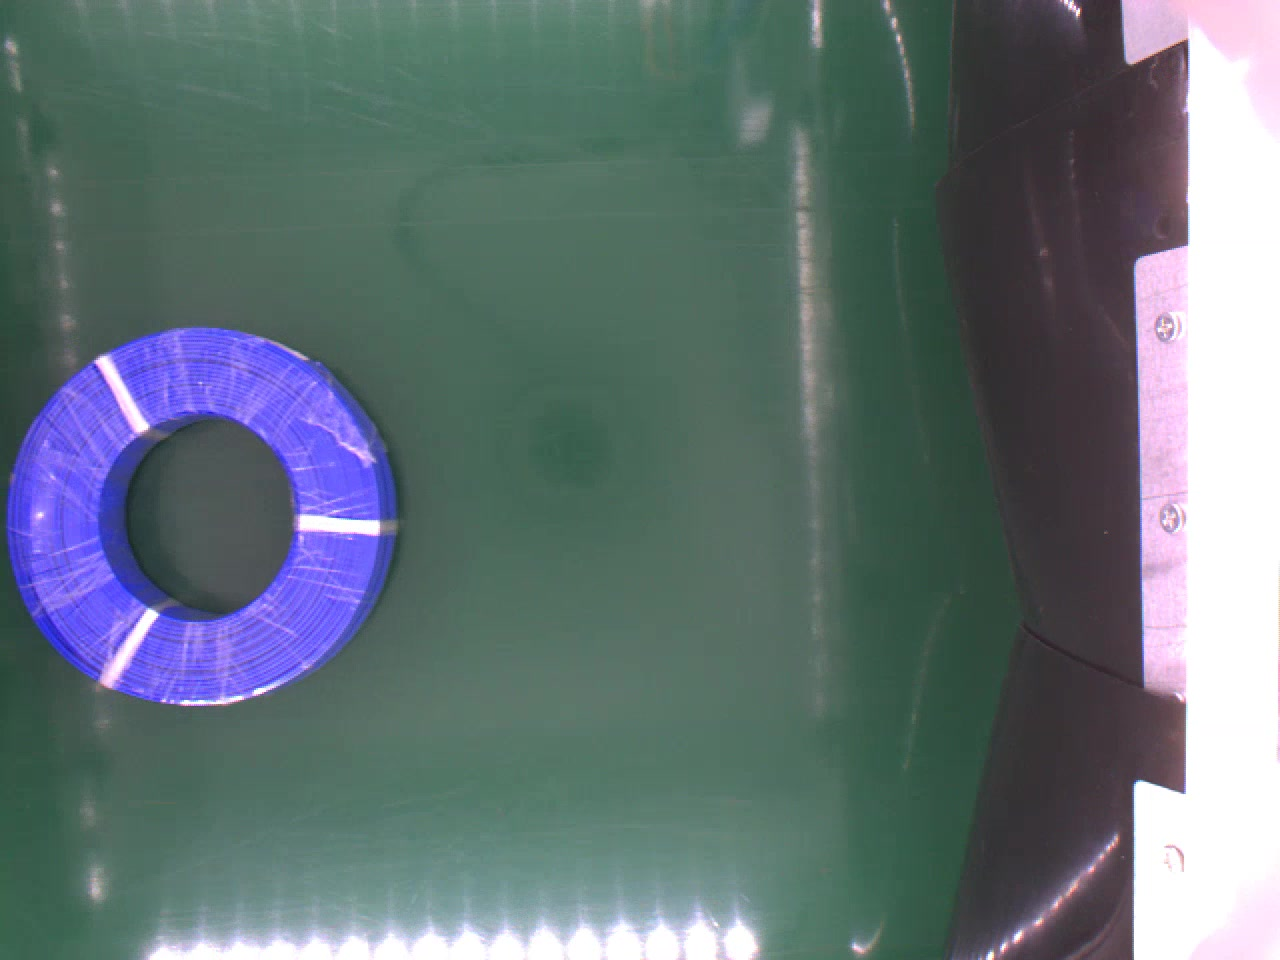blue: (6, 321, 403, 708)
